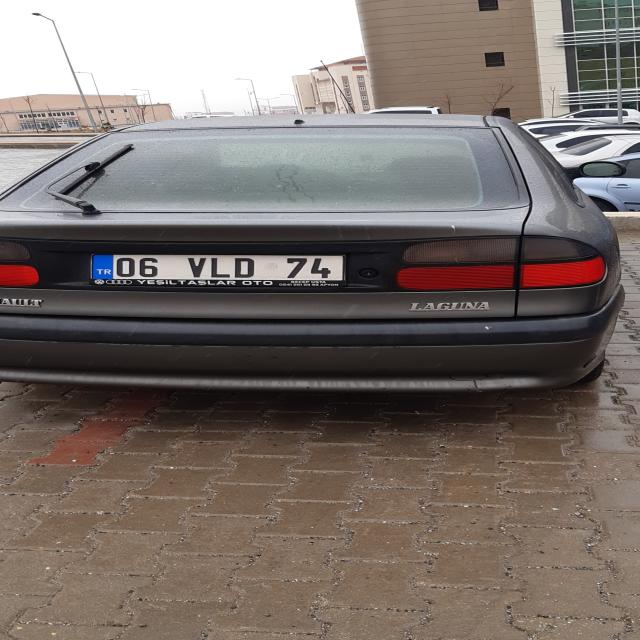license_plate: (88, 254, 344, 281)
